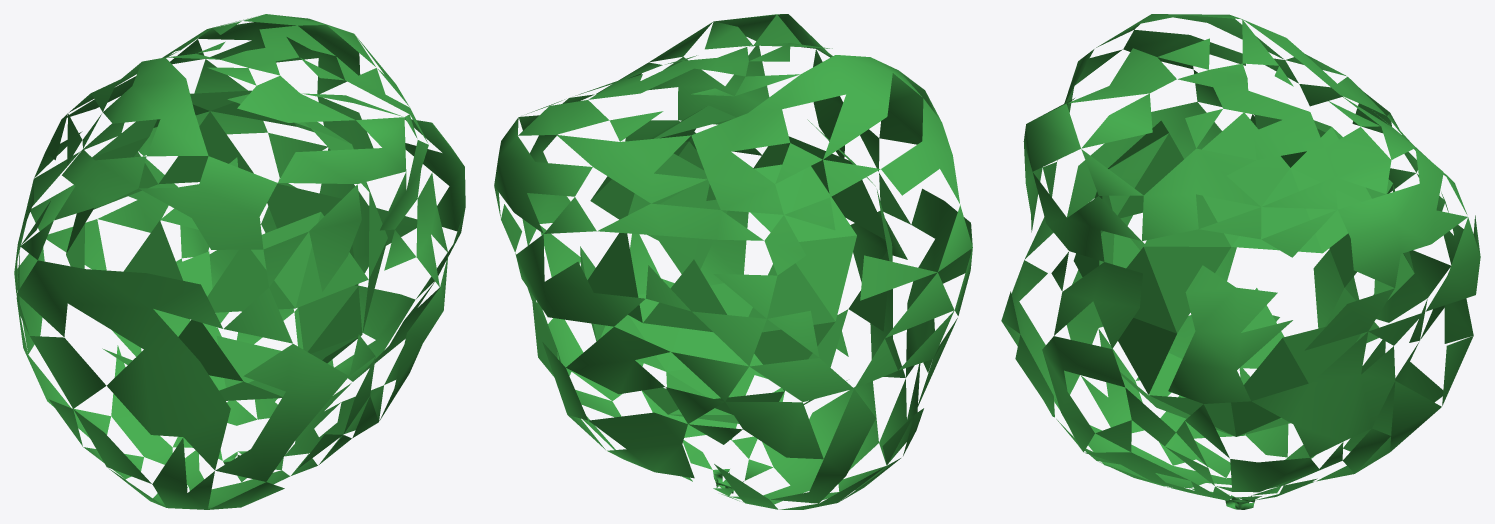
The model's file is BalloonPOP_GREEN.fbx.
3 renders of one model, left to right at view 1: azimuth 30°, elevation 25°; view 2: azimuth 150°, elevation 25°; view 3: azimuth 270°, elevation 25°, orthographic. The views are drawn at different scales.
Visible parts, largest first — view 1: Balloon; view 2: Balloon; view 3: Balloon.
Part boxes in pixels (<box>): Balloon: <box>14,14,465,509</box>; Balloon: <box>494,14,972,509</box>; Balloon: <box>1001,14,1480,509</box>.
Size of the model in its own units: 116 by 110 by 105.
